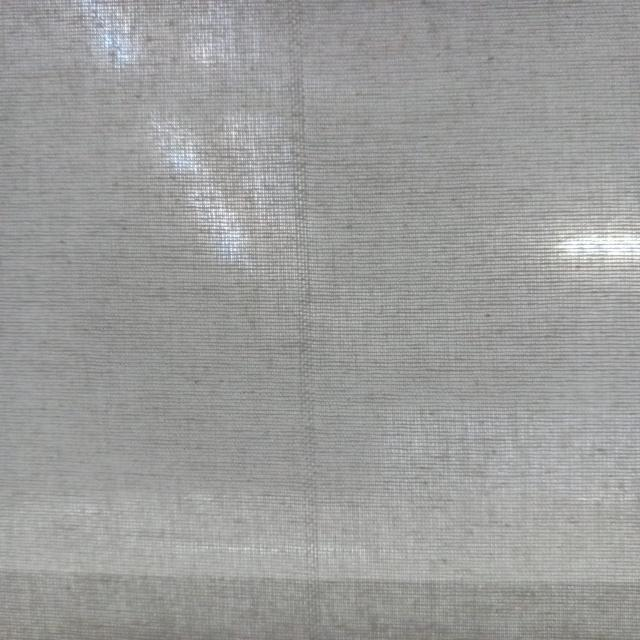Thread_other: (240, 24, 367, 624)
